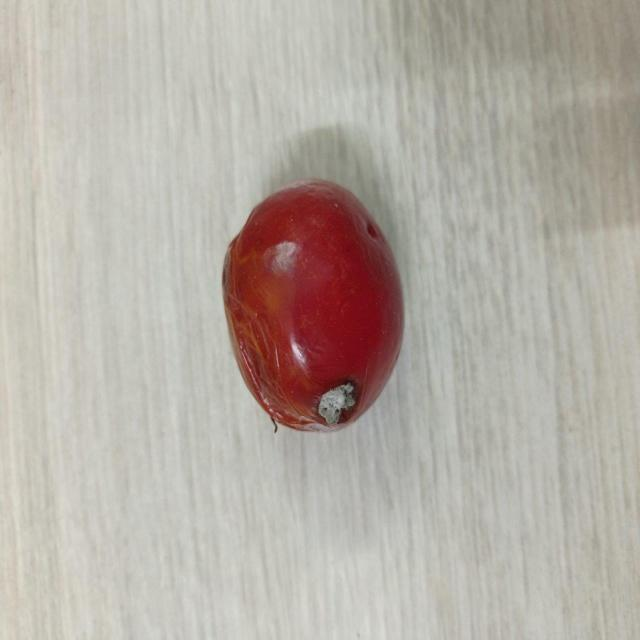Rotten: (222, 176, 406, 434)
